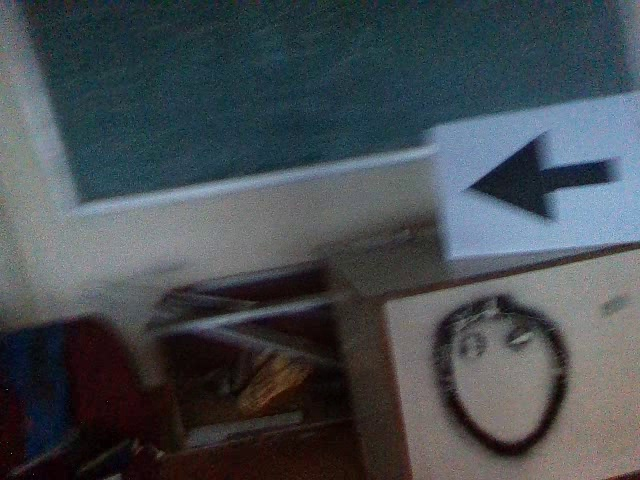Left: (457, 130, 627, 231)
